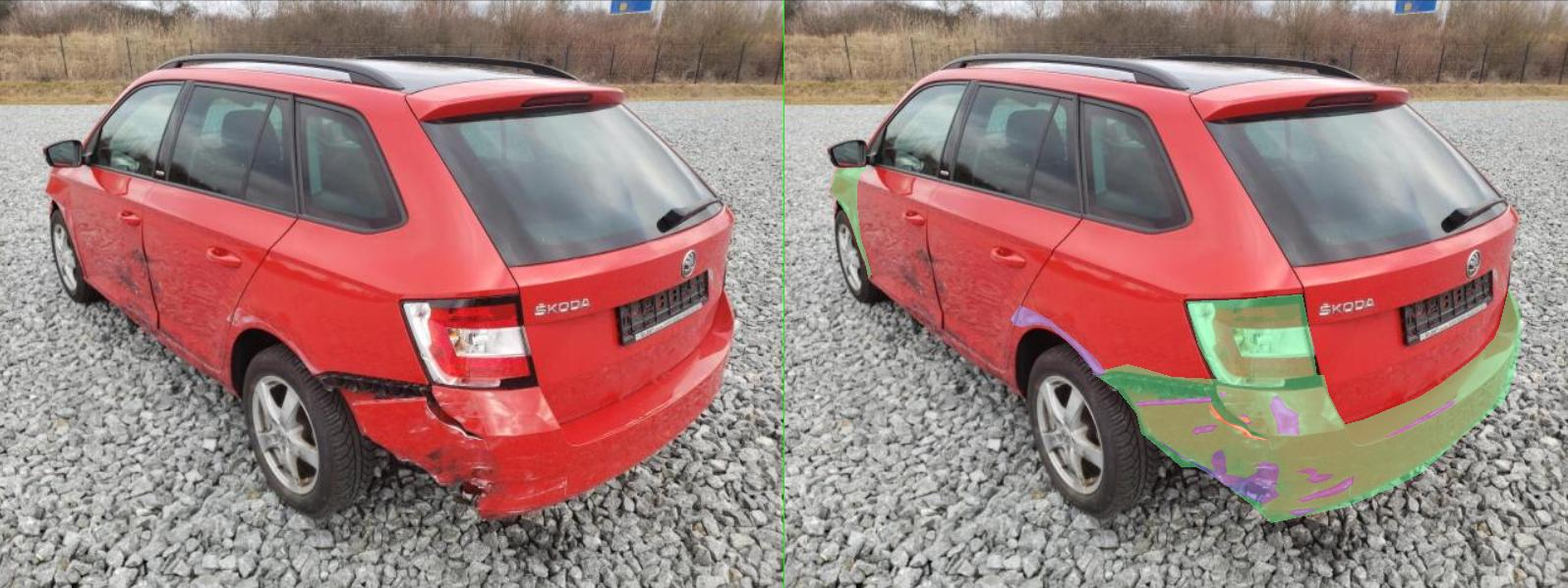Broken part: (616, 287, 1472, 522), (805, 294, 1066, 389), (92, 165, 173, 277)
Paint chip: (850, 403, 970, 440), (907, 417, 931, 422)
Scratch: (750, 441, 990, 504), (452, 305, 639, 375), (1202, 401, 1342, 437), (1027, 476, 1139, 502), (915, 463, 988, 501), (571, 340, 639, 375), (970, 395, 1029, 434), (704, 397, 854, 405), (1023, 468, 1098, 482), (854, 450, 883, 477), (814, 425, 866, 434), (938, 461, 988, 470), (1043, 474, 1096, 482), (1007, 508, 1064, 515), (909, 413, 933, 424), (872, 393, 885, 397)
